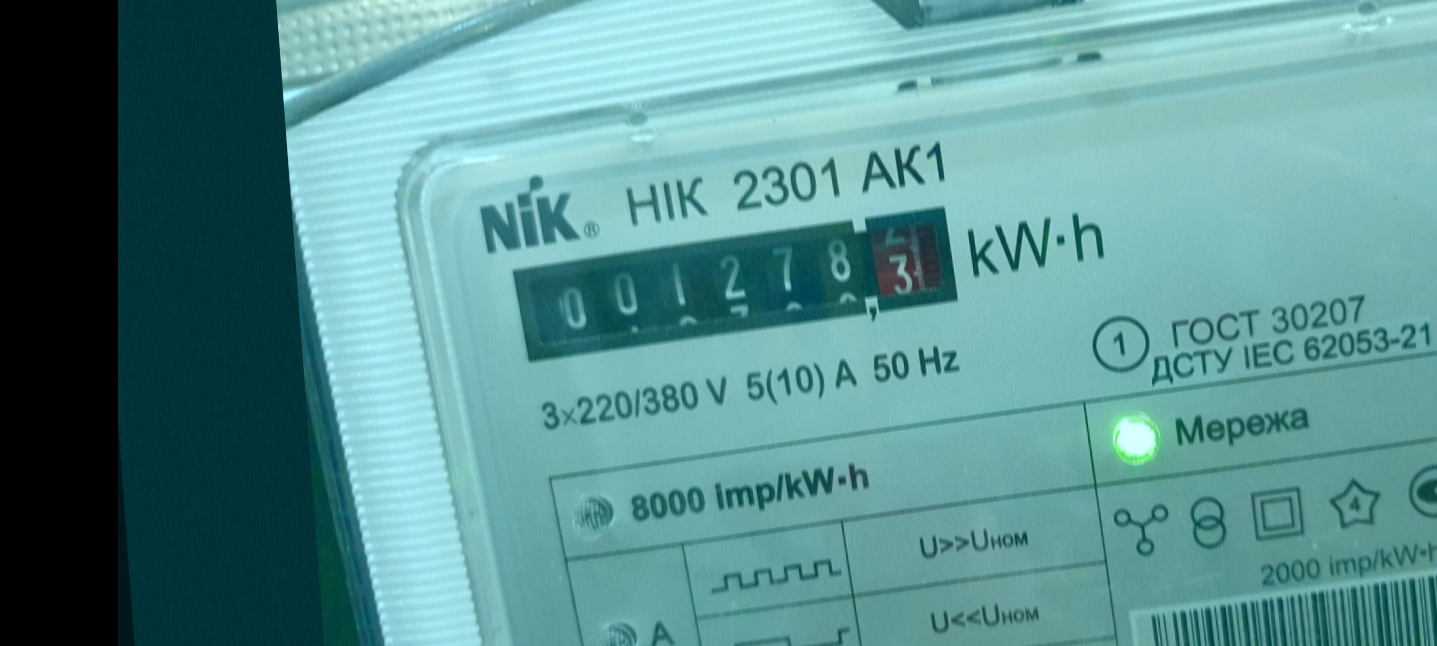0: (563, 282, 595, 332), (615, 269, 643, 317)
1: (673, 259, 693, 308)
2: (720, 252, 751, 300), (884, 224, 911, 247)
3: (890, 249, 919, 295)
7: (775, 243, 801, 293)
8: (828, 235, 857, 284)
screen: (494, 195, 981, 373)
